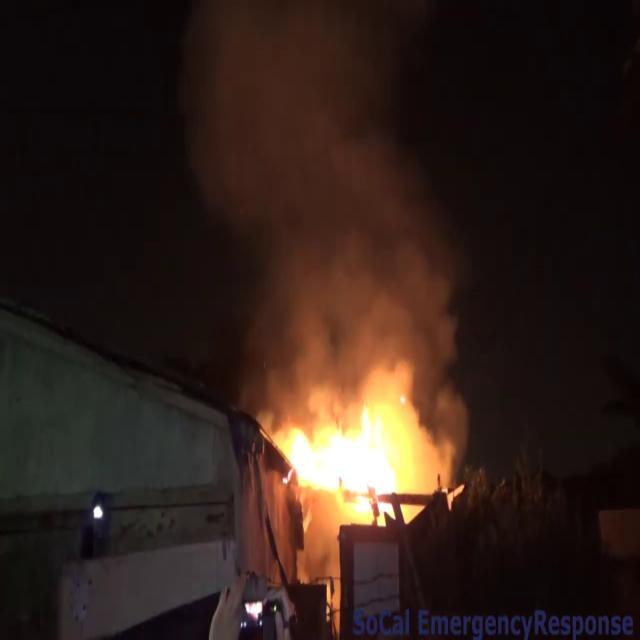Fire: (270, 387, 424, 519)
Smoke: (162, 0, 474, 390)
